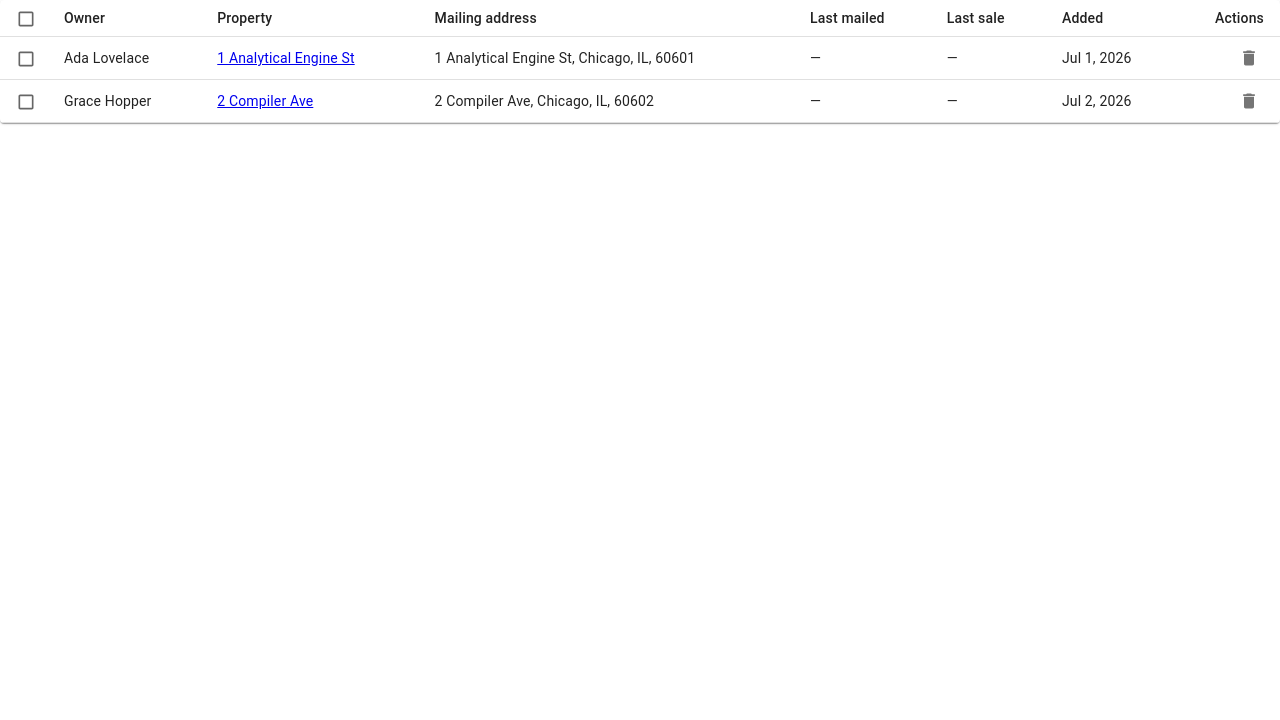
Scenario: MailQueueStagedTable › toasts blocked bulk-remove reasons instead of silently dropping them
Click the checkbox with test id "mail-queue-staged-select-all" at (26, 19), box [16,9,36,29]
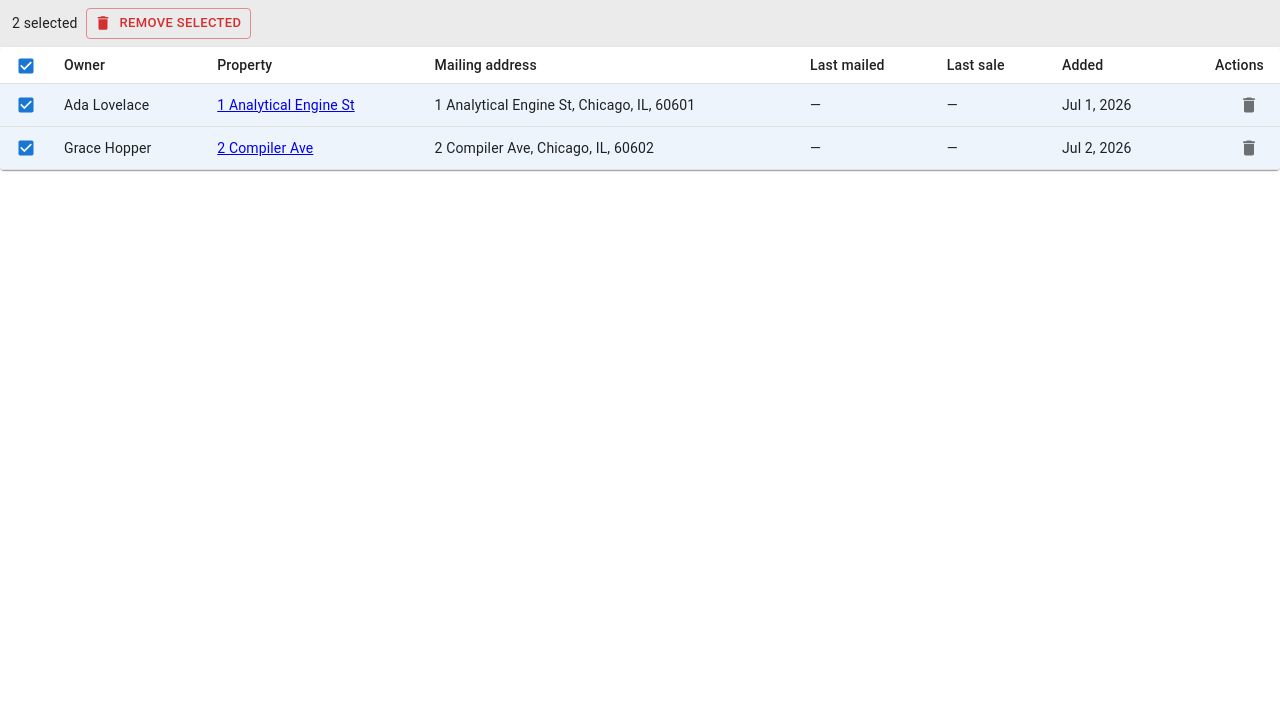
Click the button with test id "mail-queue-staged-bulk-remove" at (169, 23), box [86,8,252,39]
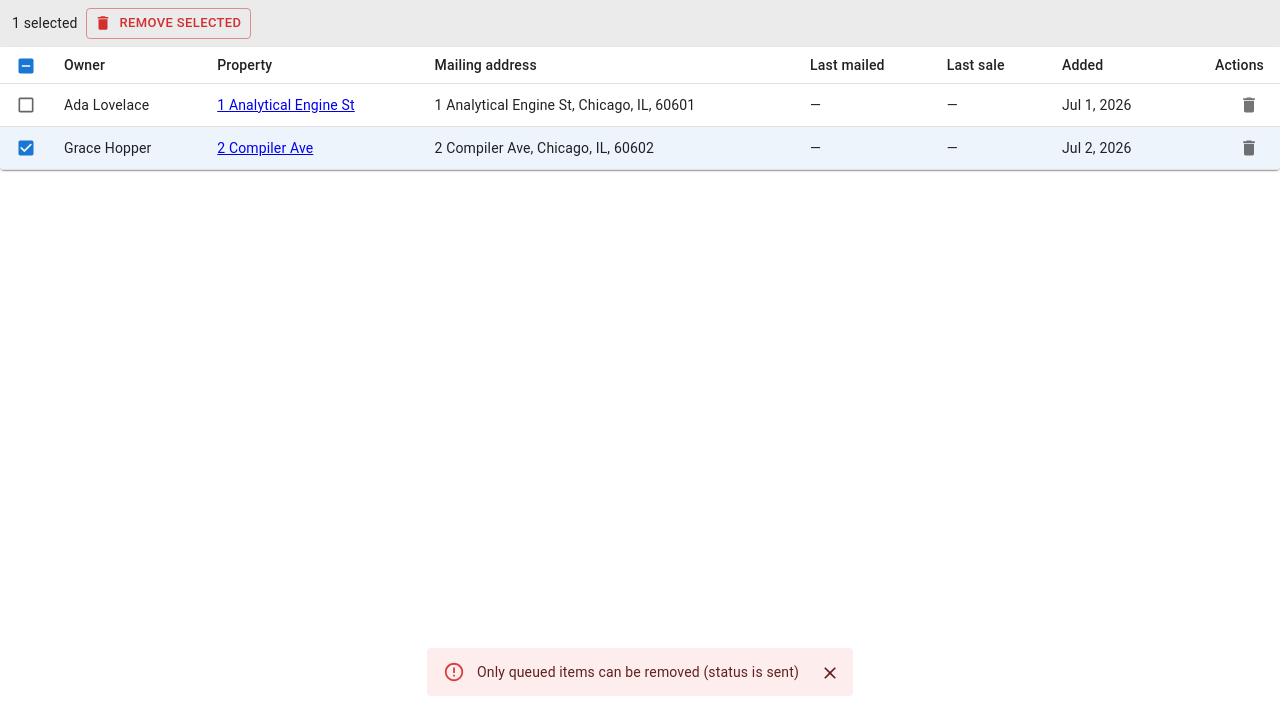
Result: the element with test id "global-notification-snackbar" reads "Only queued items can be removed (status is sent)" at [477,664,799,680]
